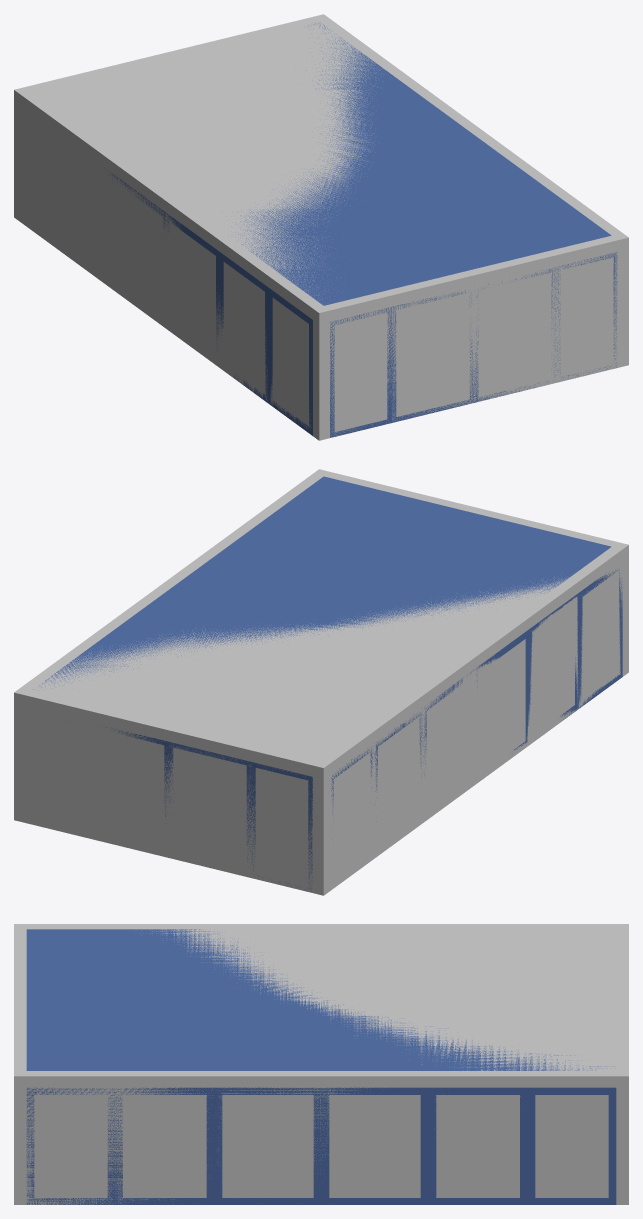
The model's file is SM_Building_13_Middle.fbx.
3 renders of one model, top to bottom at view 1: azimuth 30°, elevation 25°; view 2: azimuth 150°, elevation 25°; view 3: azimuth 270°, elevation 25°, orthographic.
Parts seen in each view (by area): view 1: SM_Building_13_Middle_ConvexHulls, SM_Building_13_Middle; view 2: SM_Building_13_Middle_ConvexHulls, SM_Building_13_Middle; view 3: SM_Building_13_Middle_ConvexHulls, SM_Building_13_Middle.
Part boxes in pixels (x1,y1,x2,y2): SM_Building_13_Middle_ConvexHulls: [14, 14, 628, 440]; SM_Building_13_Middle: [107, 22, 617, 437]; SM_Building_13_Middle_ConvexHulls: [14, 469, 628, 895]; SM_Building_13_Middle: [33, 476, 622, 891]; SM_Building_13_Middle_ConvexHulls: [14, 924, 628, 1204]; SM_Building_13_Middle: [26, 929, 616, 1204].
Size of the model in its own units: 762 by 1300 by 300.
